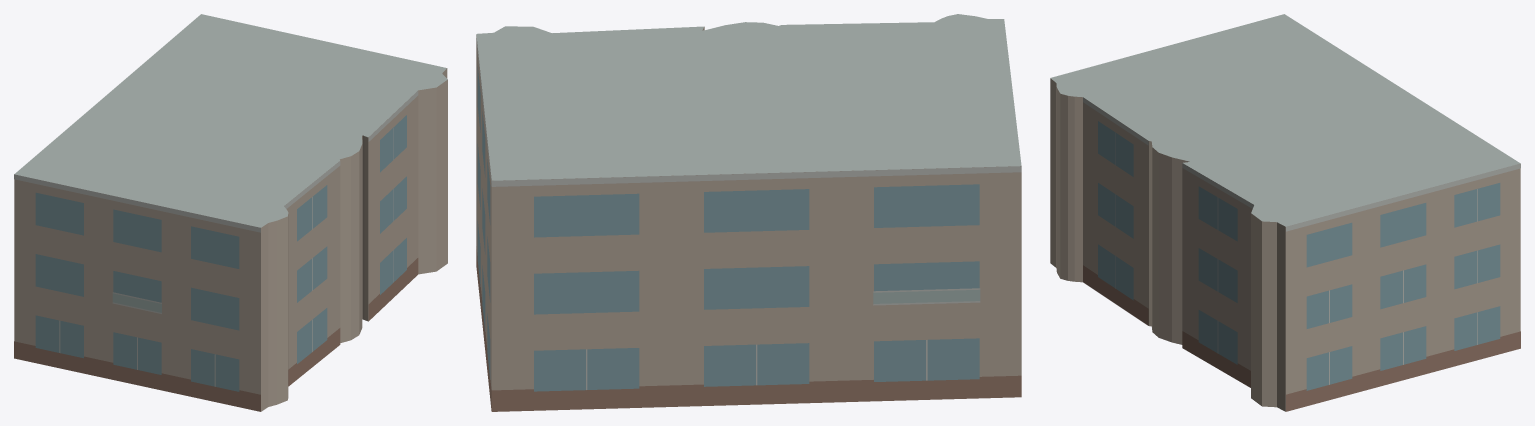
Rendered from survey-upis-32480535.glb.
The picture shows the model from 3 angles, left to right: view 1: azimuth 30°, elevation 25°; view 2: azimuth 150°, elevation 25°; view 3: azimuth 270°, elevation 25°; orthographic projection. The views are drawn at different scales.
Parts seen in each view (by area): view 1: survey-upis-32480535.tmp; view 2: survey-upis-32480535.tmp; view 3: survey-upis-32480535.tmp.
Part boxes in pixels (x1=…): survey-upis-32480535.tmp: x1=14, y1=14, x2=447, y2=411; survey-upis-32480535.tmp: x1=476, y1=14, x2=1021, y2=411; survey-upis-32480535.tmp: x1=1050, y1=14, x2=1520, y2=411.
Bounding box in the file's own units: 22.57 × 9.15 × 21.09.
